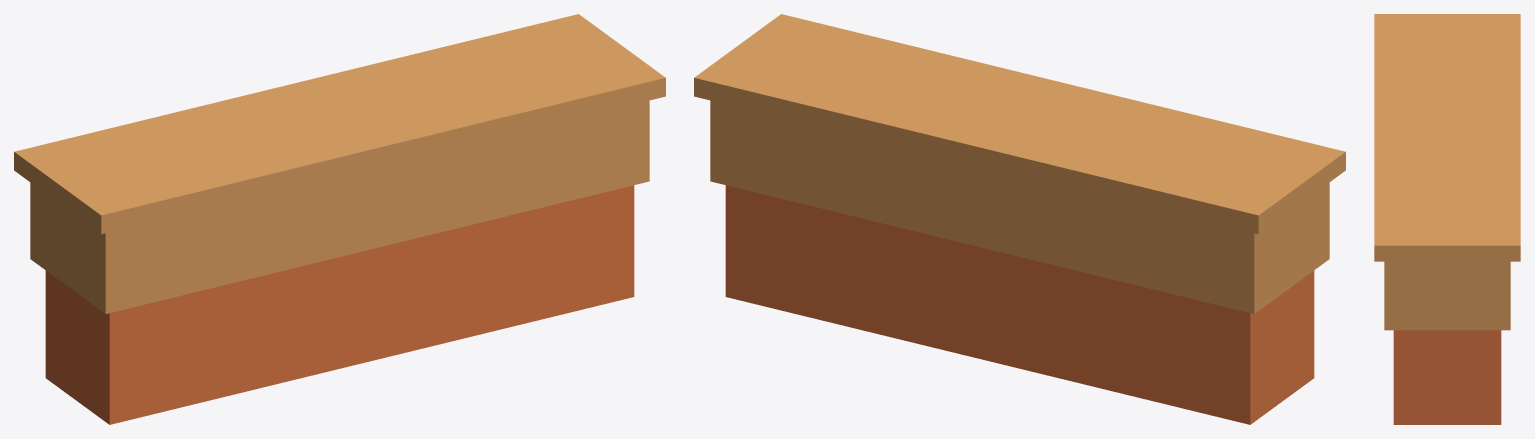
The model's file is C_BlocCote.fbx.
3 renders of one model, left to right at view 1: azimuth 30°, elevation 25°; view 2: azimuth 150°, elevation 25°; view 3: azimuth 270°, elevation 25°, orthographic. The views are drawn at different scales.
Visible parts, largest first — view 1: C_BlocCote; view 2: C_BlocCote; view 3: C_BlocCote.
Boxes of the visible parts, box(x1,y1,x2,y2) form: C_BlocCote: box(14, 14, 665, 424); C_BlocCote: box(694, 14, 1345, 424); C_BlocCote: box(1374, 14, 1520, 424).
Size of the model in its own units: 81.76 by 30.83 by 21.85.
